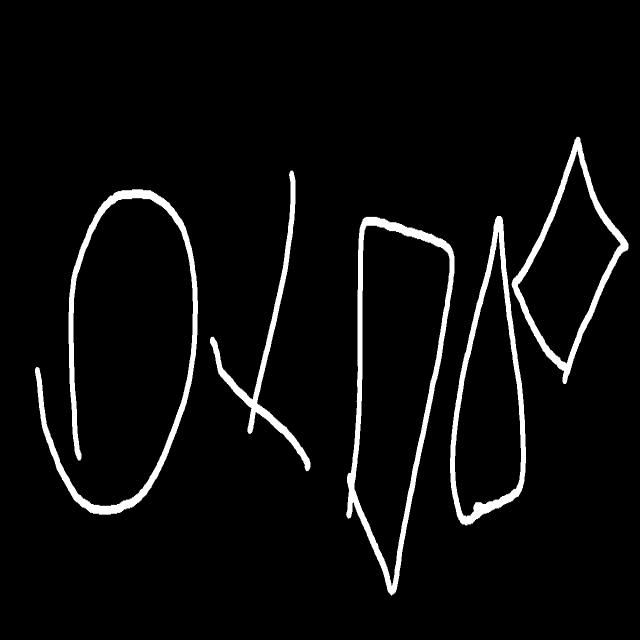circle: (34, 190, 198, 514)
cross: (210, 172, 310, 471)
diamond: (512, 137, 628, 384)
rectangle: (346, 217, 454, 595)
triangle: (450, 217, 526, 525)
